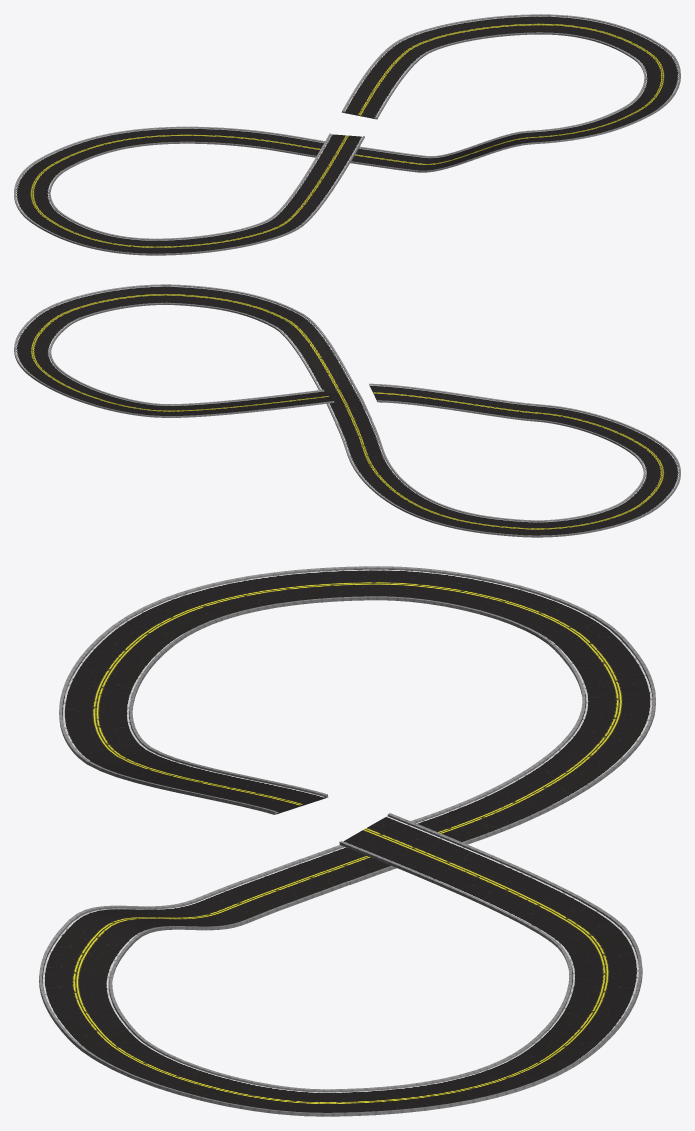
The model's file is Roads.glb.
3 views of the same model, one above another, from view 1: azimuth 30°, elevation 25°; view 2: azimuth 150°, elevation 25°; view 3: azimuth 270°, elevation 25° (orthographic). The views are drawn at different scales.
Visible parts, largest first — view 1: Road model.004, Road model.003; view 2: Road model.003, Road model.004; view 3: Road model.003, Road model.004.
Boxes of the visible parts, x1,y1,x2,y2 form: Road model.004: (14,126,364,255); Road model.003: (341,14,680,172); Road model.003: (14,284,372,423); Road model.004: (335,383,680,537); Road model.003: (39,813,642,1116); Road model.004: (59,566,655,884).
Bounding box in the file's own units: 39.17 × 1.93 × 16.79.
Materials: 1 (1 with a texture image).
